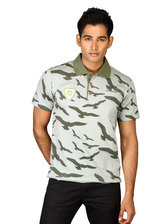clothoes: (31, 53, 146, 186)
